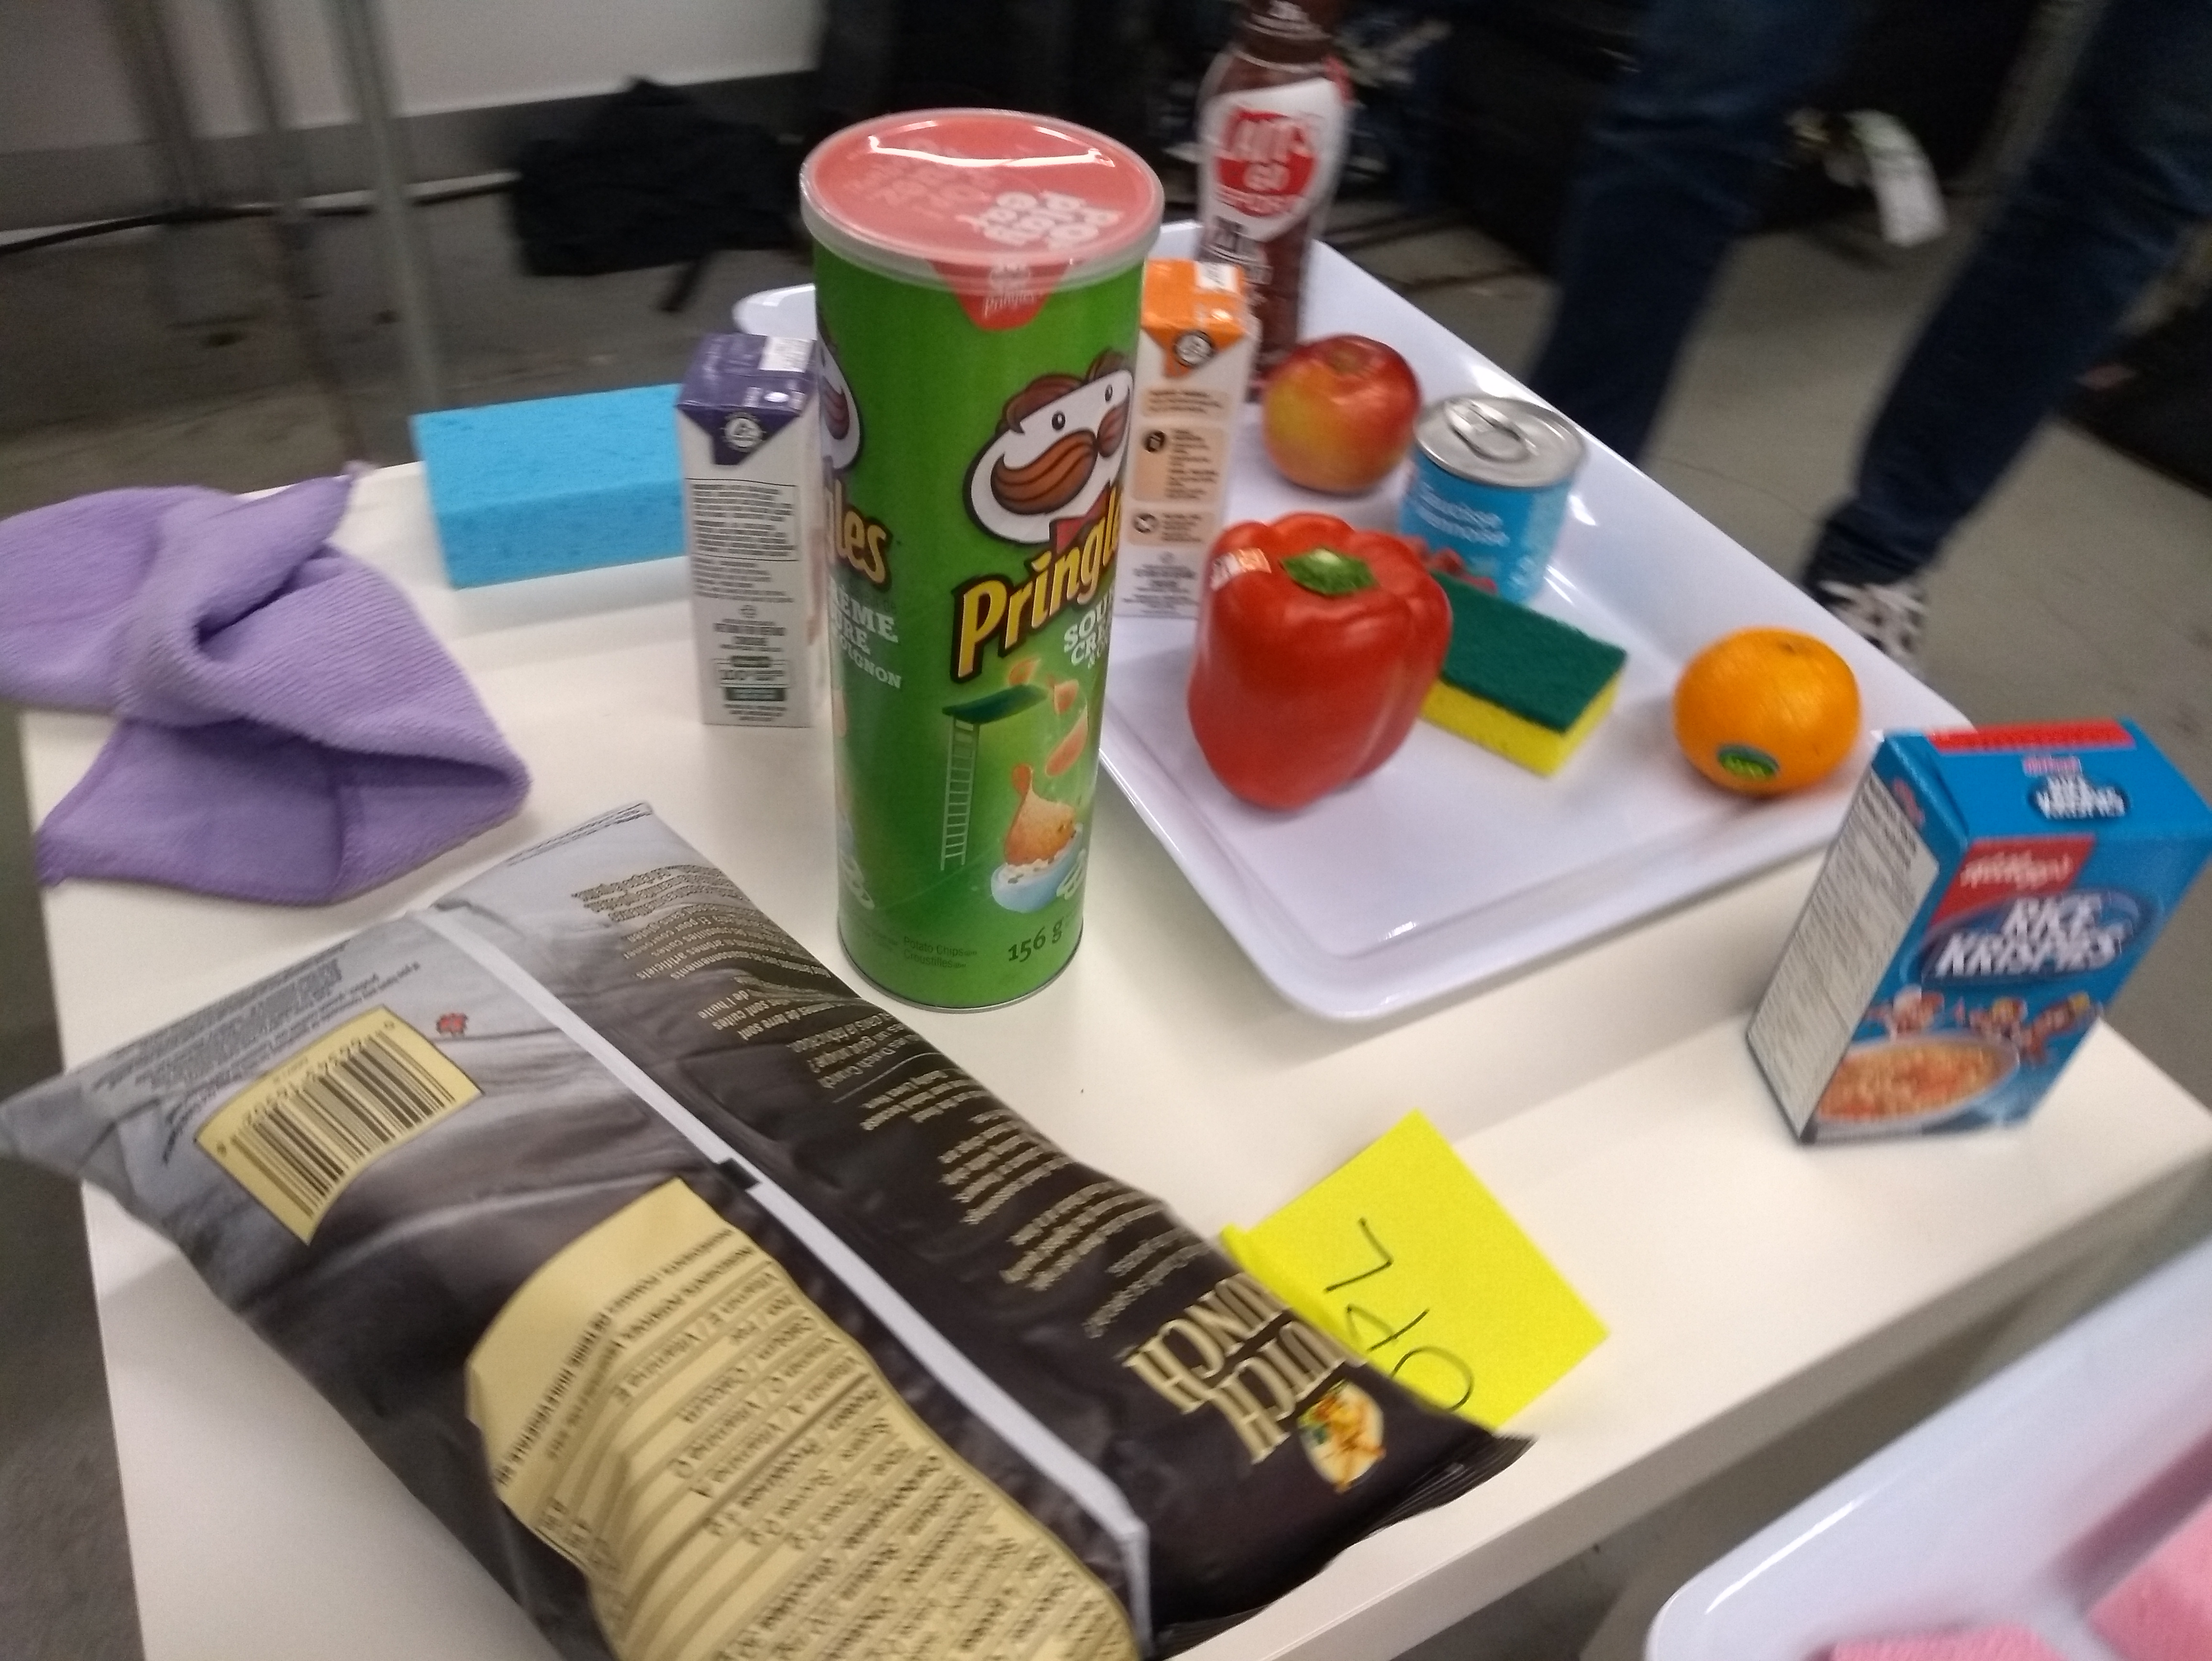apple: (1268, 321, 1415, 497)
cereal: (1739, 686, 2207, 1172)
chocolate_drink: (1188, 16, 1355, 379)
cloth_opl: (0, 461, 529, 902)
grape_juice: (672, 330, 830, 745)
orange: (1669, 626, 1865, 804)
orange_juice: (1113, 265, 1260, 619)
paprika: (1174, 509, 1457, 815)
potato_chips: (40, 830, 1485, 1658)
pringles: (792, 92, 1158, 1010)
sausages: (1404, 387, 1596, 600)
scrubby: (1430, 578, 1638, 787)
sponge_opl: (403, 384, 691, 583)
